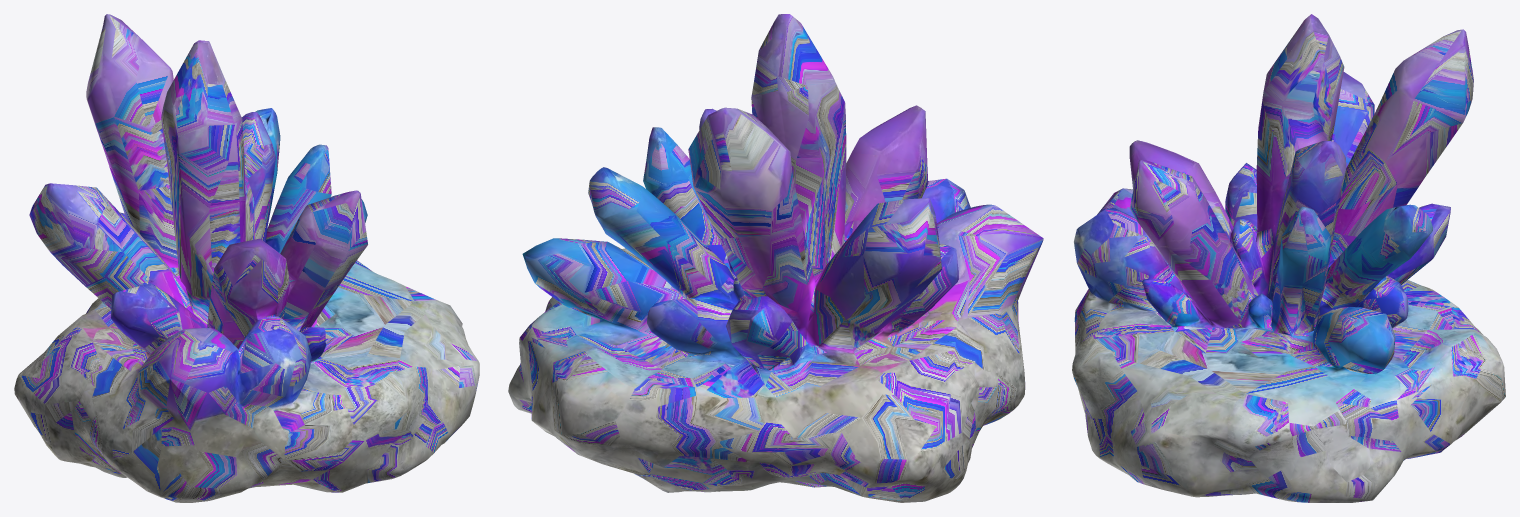
The model's file is artistic_abstract_cry.glb.
The picture shows the model from 3 angles, left to right: view 1: azimuth 30°, elevation 25°; view 2: azimuth 150°, elevation 25°; view 3: azimuth 270°, elevation 25°; orthographic projection. The views are drawn at different scales.
Visible parts, largest first — view 1: artistic_abstract_cry; view 2: artistic_abstract_cry; view 3: artistic_abstract_cry.
Part boxes in pixels (x1=…): artistic_abstract_cry: x1=14, y1=14, x2=479, y2=502; artistic_abstract_cry: x1=508, y1=14, x2=1043, y2=502; artistic_abstract_cry: x1=1072, y1=14, x2=1505, y2=502.
Size of the model in its own units: 1.92 by 2 by 1.86.
Materials: 1 (1 with a texture image).
